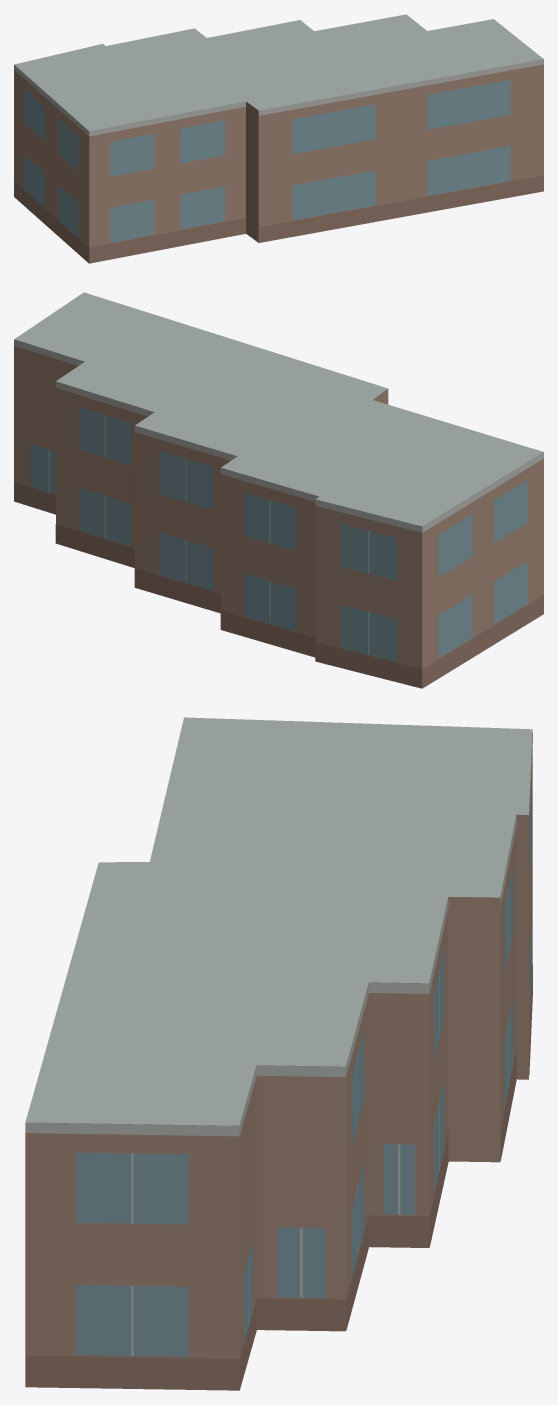
The model's file is survey-upis-32658881.glb.
The picture shows the model from 3 angles, top to bottom: view 1: azimuth 30°, elevation 25°; view 2: azimuth 150°, elevation 25°; view 3: azimuth 270°, elevation 25°; orthographic projection. The views are drawn at different scales.
Visible parts, largest first — view 1: survey-upis-32658881.tmp; view 2: survey-upis-32658881.tmp; view 3: survey-upis-32658881.tmp.
Part boxes in pixels (x1,y1,x2,y2): survey-upis-32658881.tmp: (14, 14, 543, 263); survey-upis-32658881.tmp: (14, 292, 543, 688); survey-upis-32658881.tmp: (25, 717, 532, 1390).
Size of the model in its own units: 20.2 by 6.1 by 10.61.
